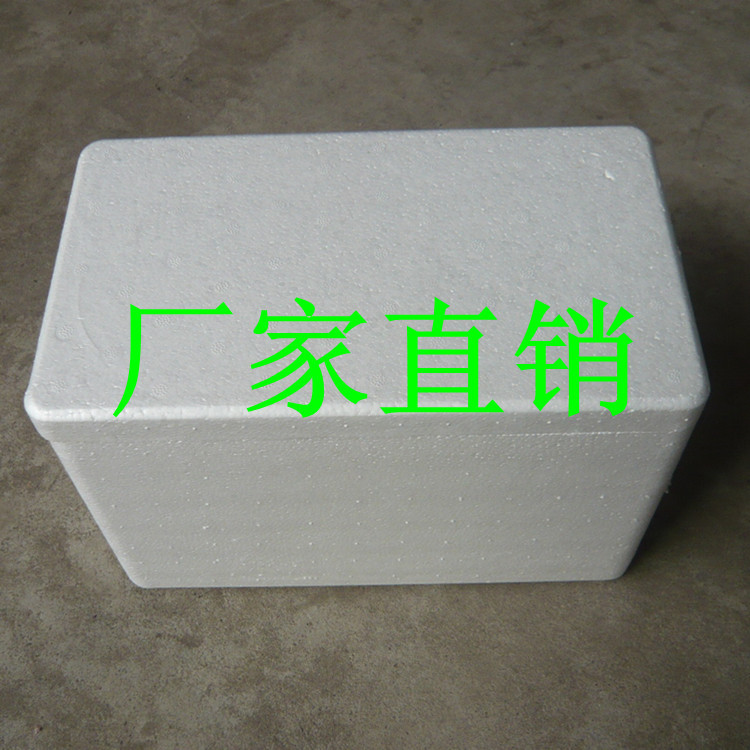泡沫箱: (26, 128, 706, 586)
